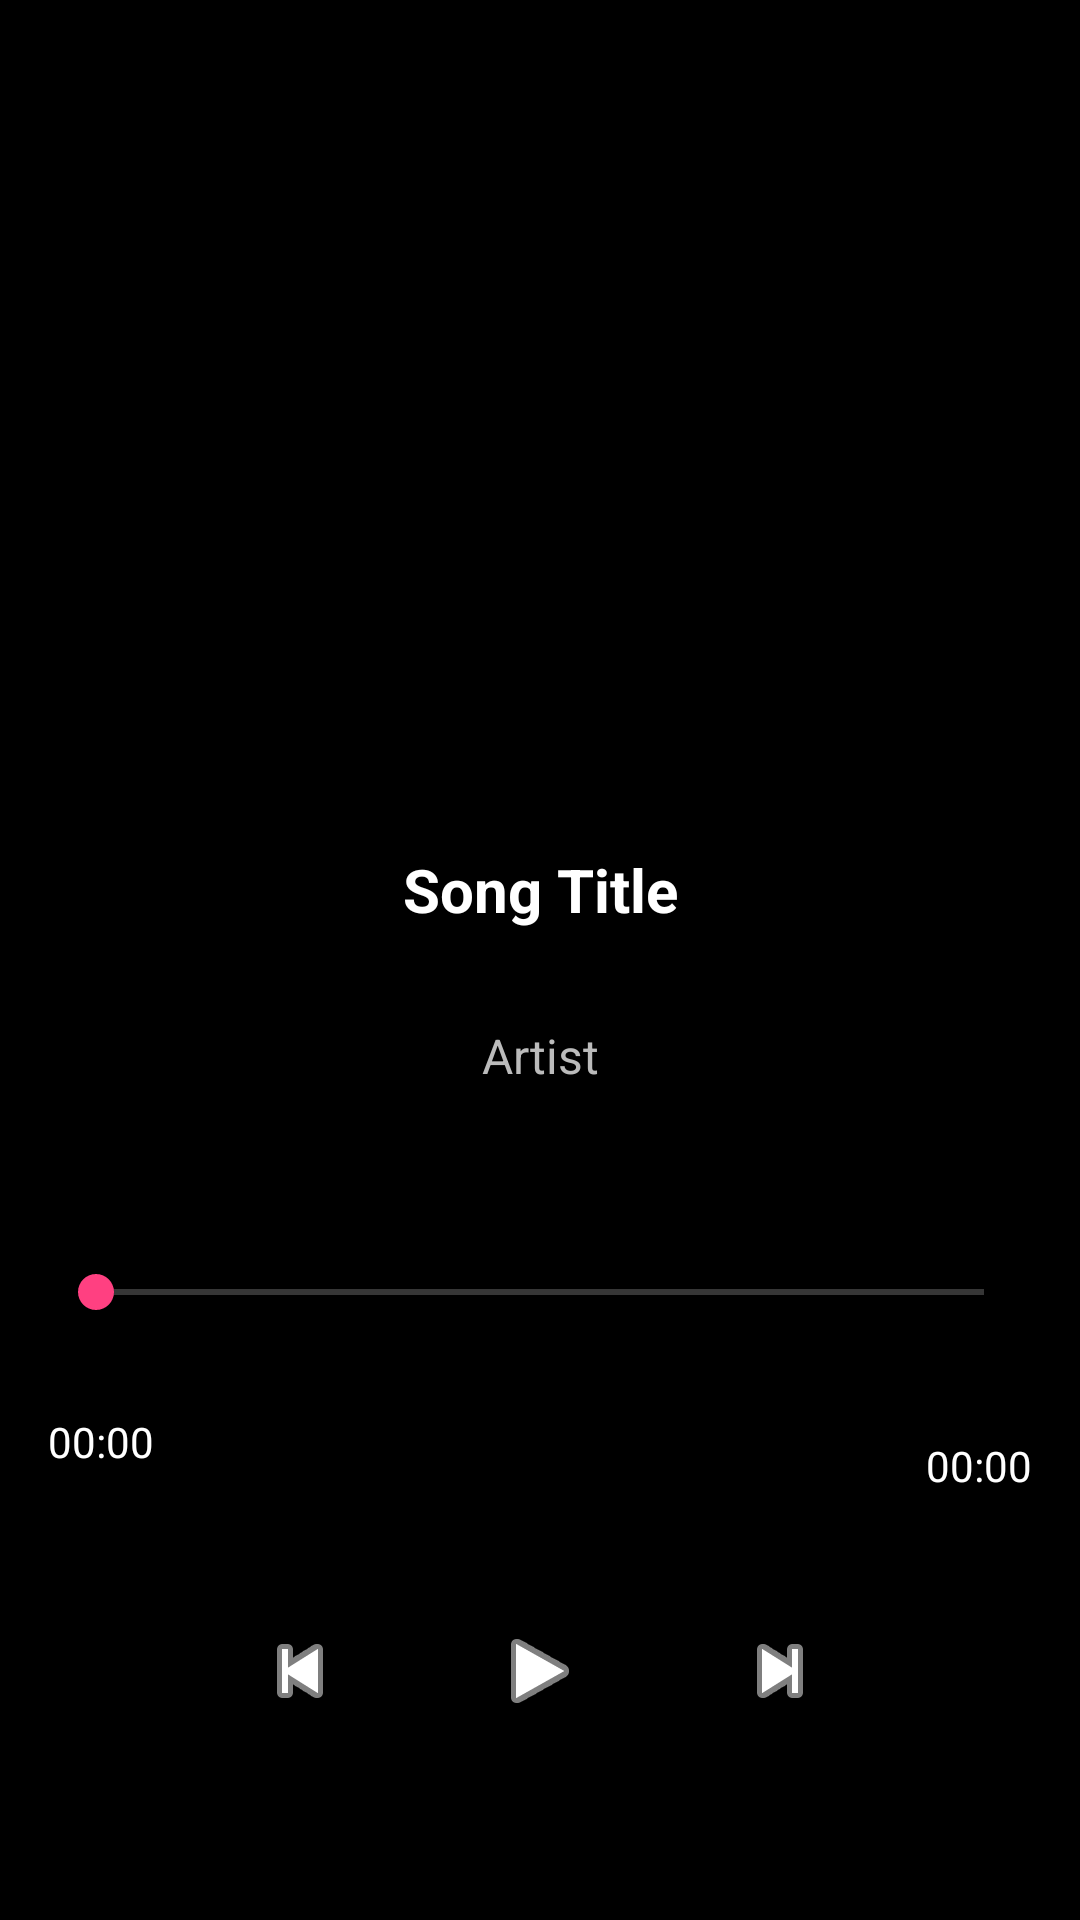

Where to tap for icons on this 1080 × 1920 app screen, as [x,y]:
next: [780,1671]
play: [540,1671]
previous: [300,1671]
